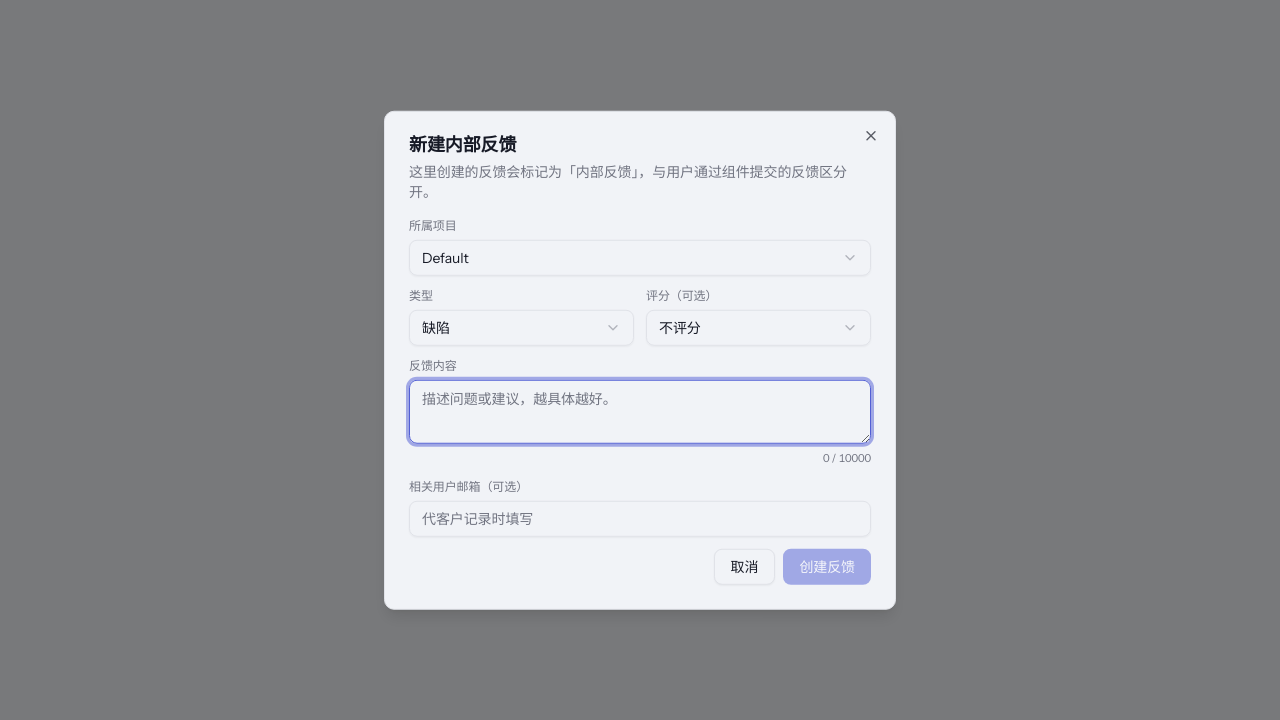
Test: CreateFeedbackDialog › rejects a malformed contact email before posting
This screenshot has width=1280, height=720.
Type "客户电话反馈" into the text box labelled "反馈内容" at (640, 412), box x1=409 y1=380 x2=871 y2=444
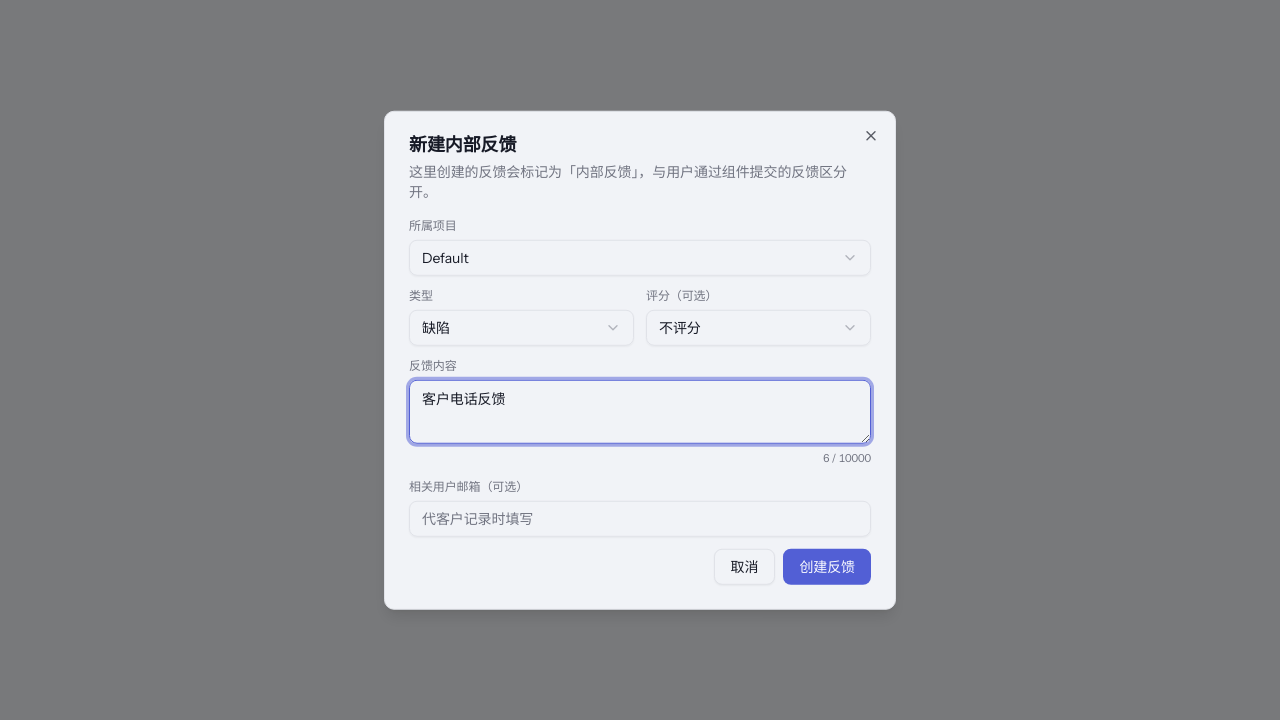
Type "not-an-email" into the field labelled "相关用户邮箱（可选）" at (640, 518), box x1=409 y1=500 x2=871 y2=536
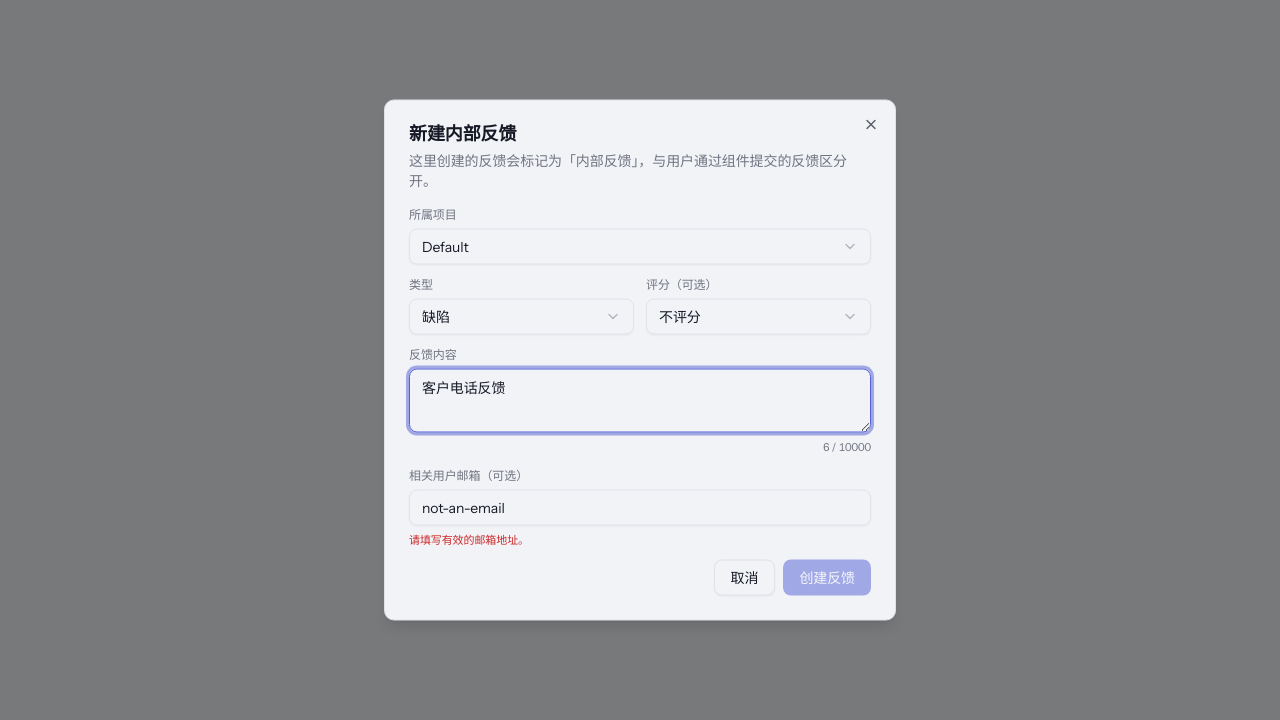
Result: the button "创建反馈" is disabled at x1=783 y1=560 x2=871 y2=596
Result: the text "请填写有效的邮箱地址。" is shown at x1=409 y1=532 x2=529 y2=546
